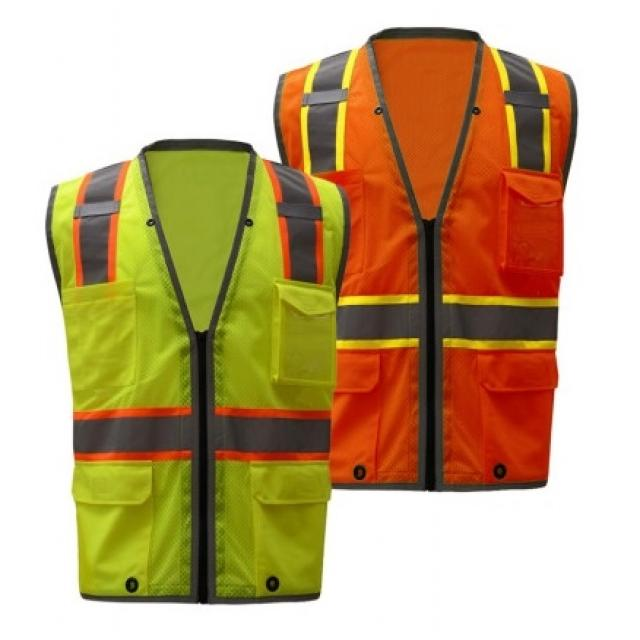Reflective-Jacket: (269, 21, 602, 512), (35, 124, 360, 623)
